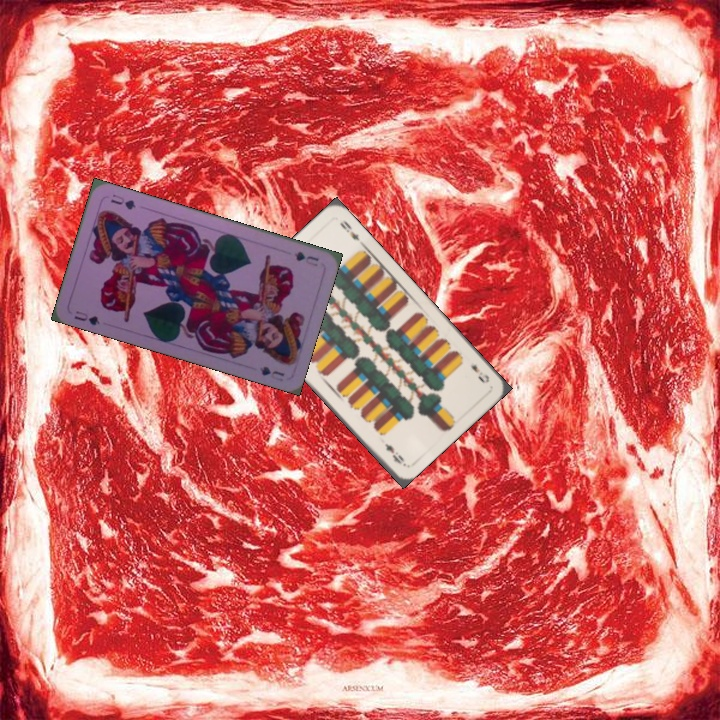E9: (466, 360, 492, 386)
GU: (70, 306, 102, 328), (290, 247, 321, 269)
